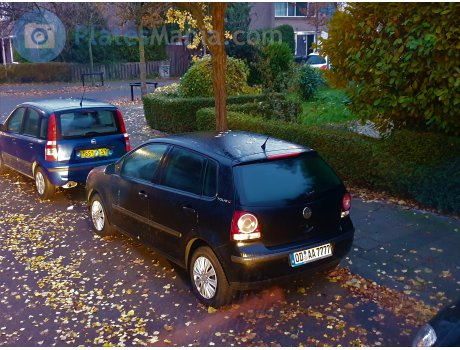License Plates: (292, 246, 337, 262)
